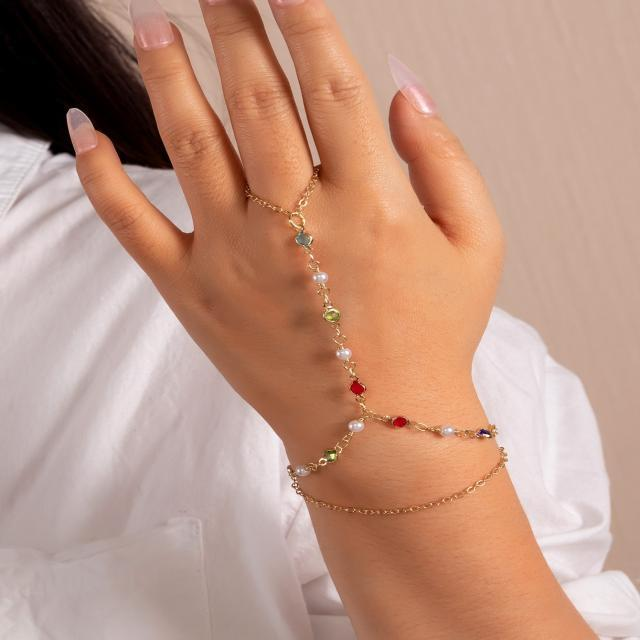Nail: (130, 0, 174, 63), (388, 55, 435, 112), (67, 109, 97, 153), (268, 0, 304, 12), (203, 0, 224, 4)
